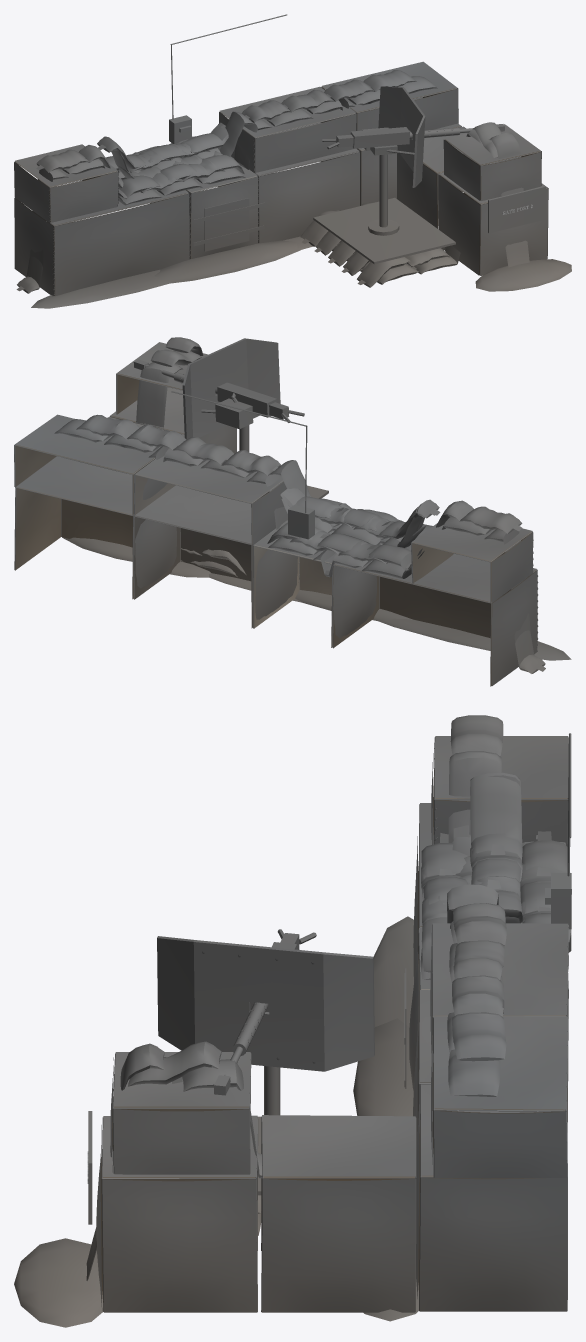
File: WL_GateBastionN_LOD0.glb
3 views of the same model, one above another, from view 1: azimuth 30°, elevation 25°; view 2: azimuth 150°, elevation 25°; view 3: azimuth 270°, elevation 25° (orthographic). The views are drawn at different scales.
Parts seen in each view (by area): view 1: WL_GateBastionN_Wire_LOD0, WL_GateBastionN_Canvas_LOD0, WL_GateBastionN_Metal_LOD0, WL_GateBastionN_Sand_LOD0, WL_GateBastionN_Masonry_LOD0, WL_GateBastionN_Hardware_LOD0; view 2: WL_GateBastionN_Wire_LOD0, WL_GateBastionN_Canvas_LOD0, WL_GateBastionN_Masonry_LOD0, WL_GateBastionN_Metal_LOD0, WL_GateBastionN_Sand_LOD0, WL_GateBastionN_Hardware_LOD0; view 3: WL_GateBastionN_Wire_LOD0, WL_GateBastionN_Canvas_LOD0, WL_GateBastionN_Metal_LOD0, WL_GateBastionN_Sand_LOD0, WL_GateBastionN_Hardware_LOD0, WL_GateBastionN_Masonry_LOD0.
Part boxes in pixels (box(x1,y1,x2,y2)): WL_GateBastionN_Wire_LOD0: box(14, 61, 548, 296); WL_GateBastionN_Canvas_LOD0: box(16, 70, 529, 293); WL_GateBastionN_Metal_LOD0: box(169, 14, 546, 264); WL_GateBastionN_Sand_LOD0: box(31, 200, 571, 308); WL_GateBastionN_Masonry_LOD0: box(15, 86, 546, 295); WL_GateBastionN_Hardware_LOD0: box(14, 86, 547, 295); WL_GateBastionN_Wire_LOD0: box(14, 342, 537, 686); WL_GateBastionN_Canvas_LOD0: box(54, 337, 545, 673); WL_GateBastionN_Masonry_LOD0: box(15, 373, 536, 685); WL_GateBastionN_Metal_LOD0: box(133, 338, 328, 539); WL_GateBastionN_Sand_LOD0: box(62, 537, 571, 660); WL_GateBastionN_Hardware_LOD0: box(14, 373, 538, 686); WL_GateBastionN_Wire_LOD0: box(96, 736, 568, 1312); WL_GateBastionN_Canvas_LOD0: box(86, 715, 571, 1280); WL_GateBastionN_Metal_LOD0: box(88, 733, 571, 1224); WL_GateBastionN_Sand_LOD0: box(14, 916, 418, 1327); WL_GateBastionN_Hardware_LOD0: box(101, 737, 568, 1311); WL_GateBastionN_Masonry_LOD0: box(100, 770, 567, 1302).
Size of the model in its own units: 6.6 by 2.65 by 3.78.
